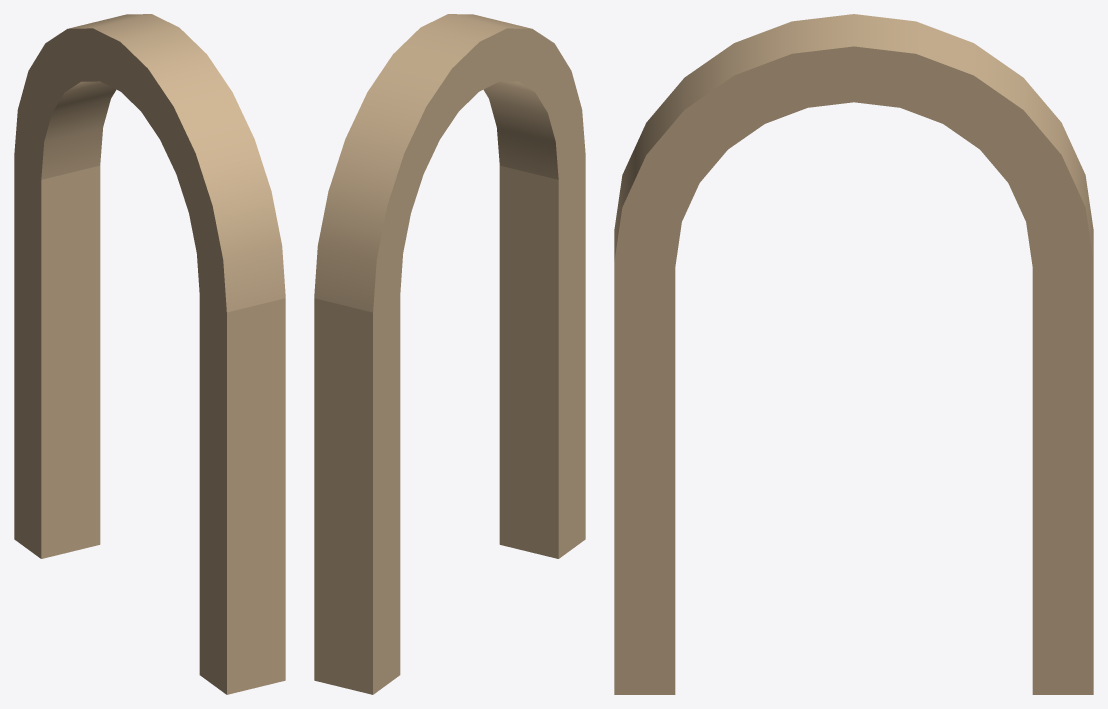
The model's file is detail_026.glb.
3 views of the same model, side by side, from view 1: azimuth 30°, elevation 25°; view 2: azimuth 150°, elevation 25°; view 3: azimuth 270°, elevation 25° (orthographic). The views are drawn at different scales.
Parts seen in each view (by area): view 1: detail_026; view 2: detail_026; view 3: detail_026.
Part boxes in pixels (box(x1,y1,x2,y2)): detail_026: box(14, 14, 285, 694); detail_026: box(314, 14, 585, 694); detail_026: box(614, 14, 1093, 694).
Size of the model in its own units: 0.05 by 0.4662 by 0.3125.
